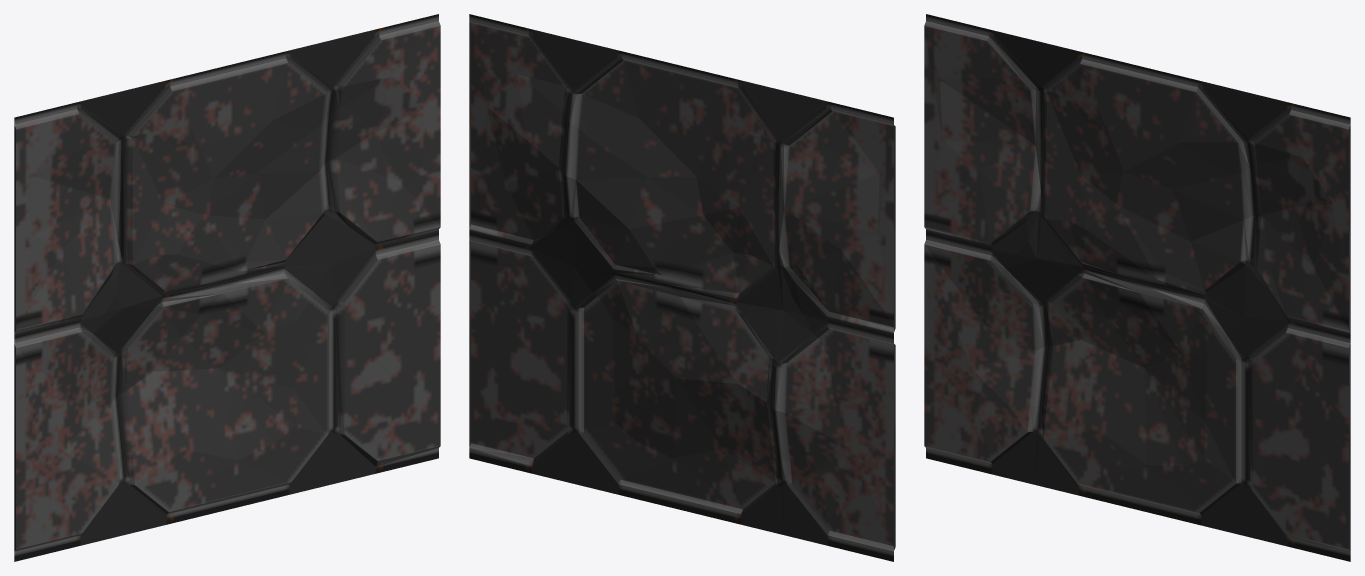
Rendered from stor1_7d.fbx.
3 renders of one model, left to right at view 1: azimuth 30°, elevation 25°; view 2: azimuth 150°, elevation 25°; view 3: azimuth 330°, elevation 25°, orthographic.
Visible parts, largest first — view 1: stor1_7d_mesh; view 2: stor1_7d_mesh; view 3: stor1_7d_mesh.
Boxes of the visible parts, x1,y1,x2,y2 form: stor1_7d_mesh: (14, 14, 440, 561); stor1_7d_mesh: (469, 14, 895, 561); stor1_7d_mesh: (924, 14, 1350, 561).
Bounding box in the file's own units: 256 × 256 × 11.43.
